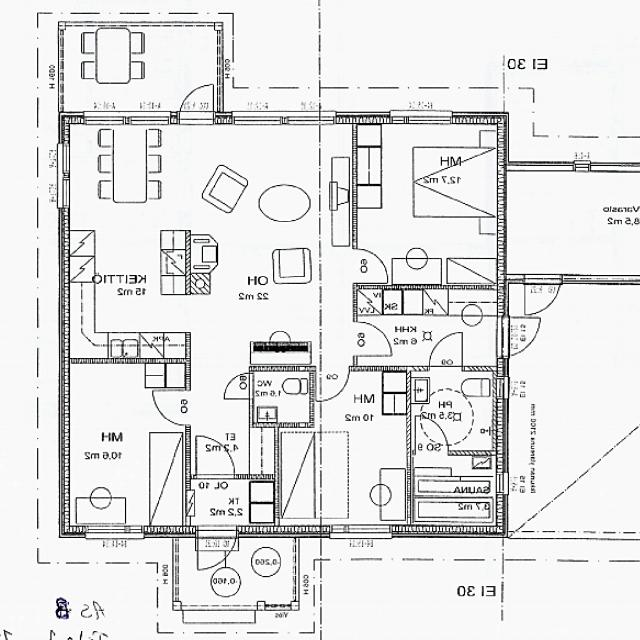door: (496, 318, 547, 357), (198, 526, 236, 578), (525, 275, 562, 321), (197, 436, 234, 480), (180, 78, 213, 124), (151, 391, 191, 426), (429, 332, 463, 372), (353, 322, 391, 357), (353, 249, 392, 283), (316, 366, 349, 406), (415, 418, 448, 456), (226, 374, 256, 399)
